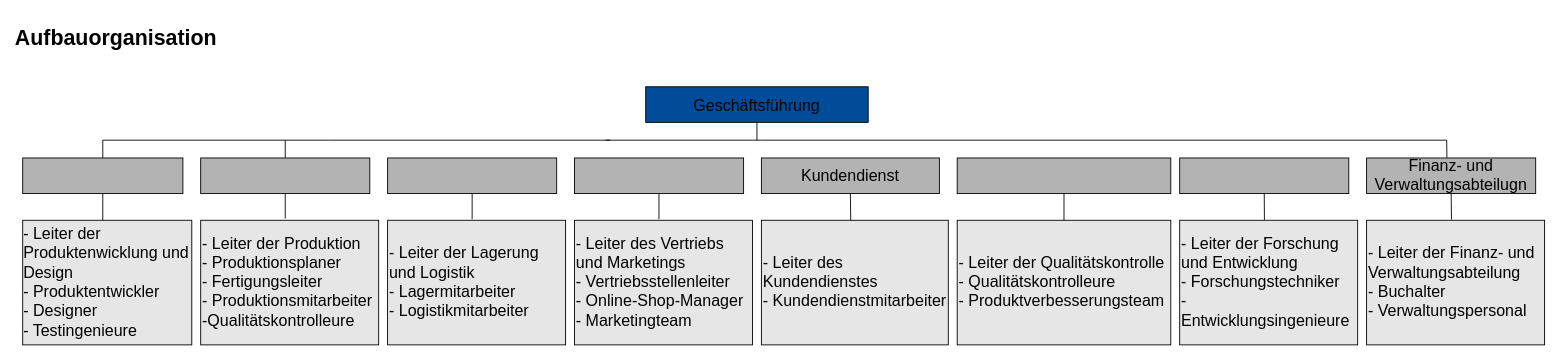
Some shapes in this 1560 by 360 pixel diagram are drawn without their labels. The shapes that lost their labels are listed below. From the top down, each one's centre as x and y in pixels, then its label:
point 102,175: Produktentwicklung und Design
point 285,175: Produktionsabteilung
point 472,175: Lagerung und Logistik
point 659,175: Vertrieb und Marketing
point 1063,175: Qualitätskontrolle
point 1264,175: Forschung und Entwicklung
